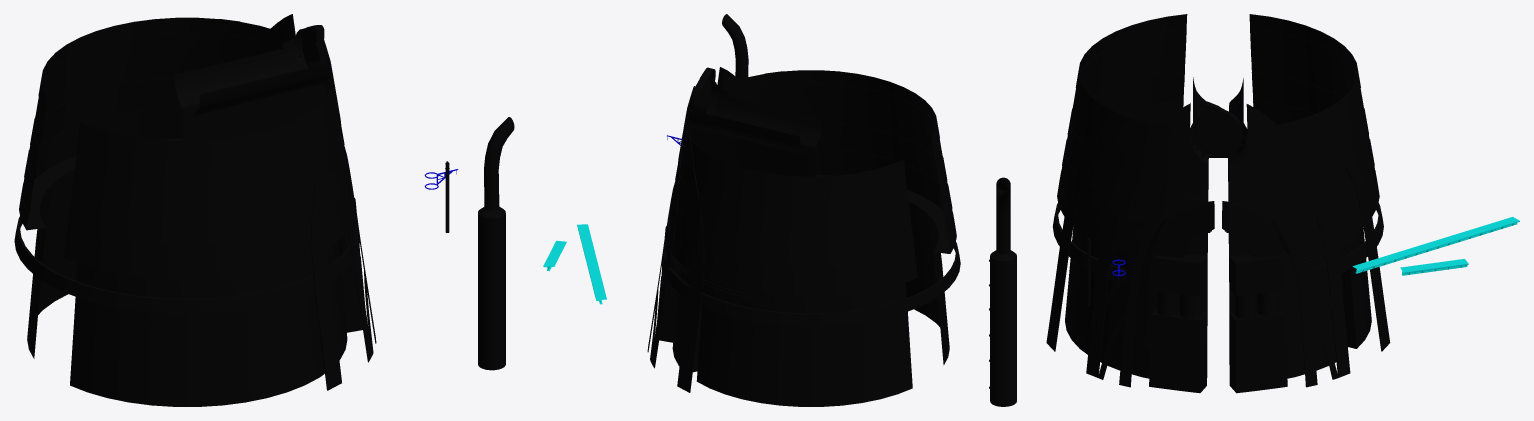
File: Background01_high.fbx
3 renders of one model, left to right at view 1: azimuth 30°, elevation 25°; view 2: azimuth 150°, elevation 25°; view 3: azimuth 270°, elevation 25°, orthographic. The views are drawn at different scales.
Parts seen in each view (by area): view 1: Background01_high; view 2: Background01_high; view 3: Background01_high.
Part boxes in pixels (x1=…): Background01_high: x1=14, y1=14, x2=514, y2=406; Background01_high: x1=543, y1=14, x2=960, y2=406; Background01_high: x1=989, y1=14, x2=1519, y2=406.
Size of the model in its own units: 9268 by 6933 by 12071.
